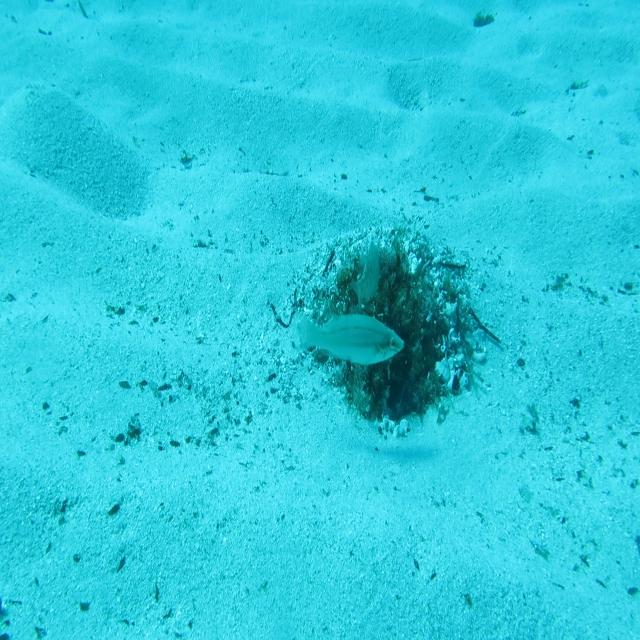NIP_IN: (348, 236, 382, 314)
core_nest: (363, 265, 420, 307)
female: (291, 305, 407, 370)
nest: (276, 211, 487, 448)
vegetation: (472, 10, 496, 30)
